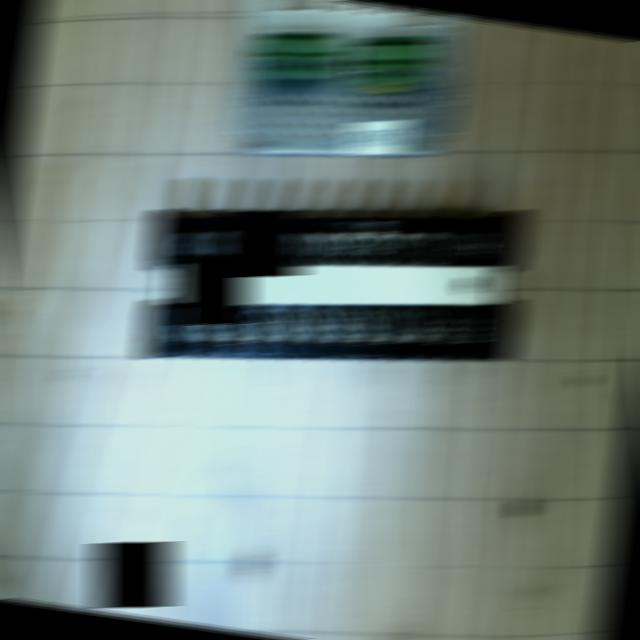Flathead_Block: (140, 210, 527, 358)
Terminal_1: (254, 32, 339, 79), (349, 37, 435, 83)
